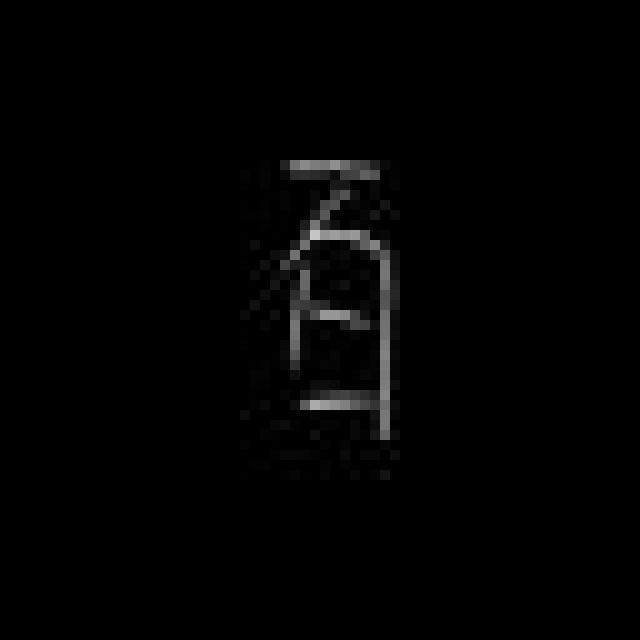100 -a hundred-: (265, 139, 402, 451)
